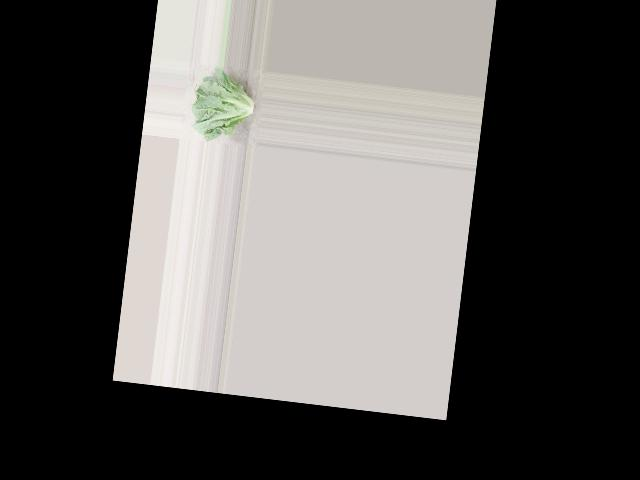lettuce: (186, 65, 263, 144)
